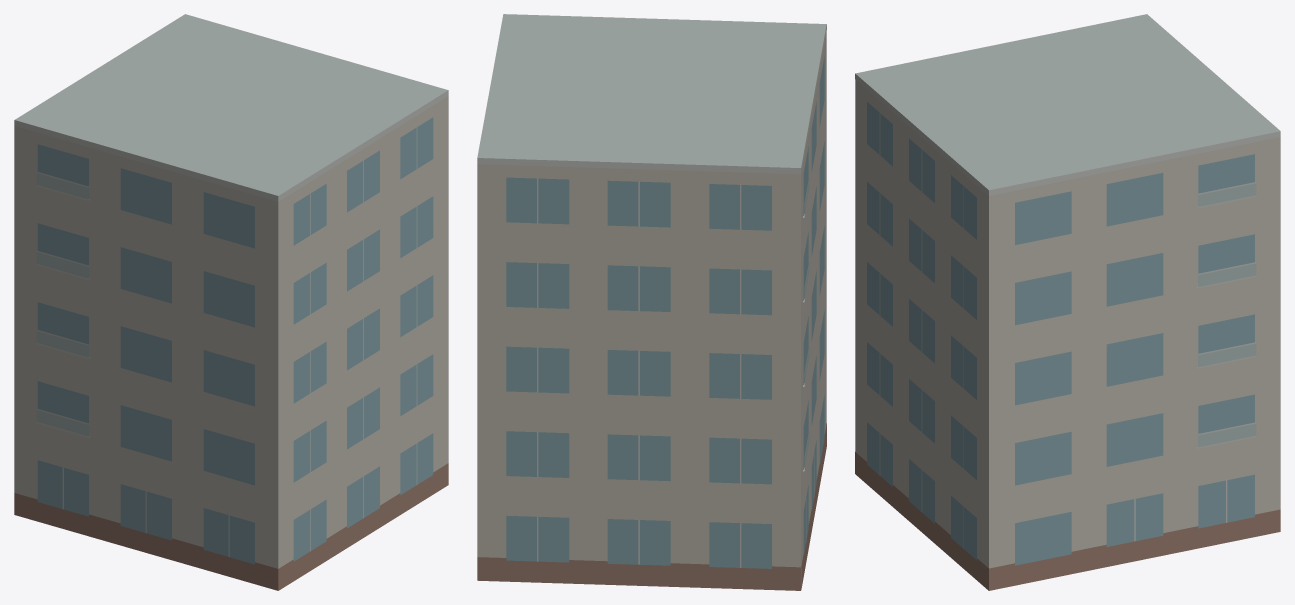
Rendered from survey-upis-32705207.glb.
3 views of the same model, side by side, from view 1: azimuth 30°, elevation 25°; view 2: azimuth 150°, elevation 25°; view 3: azimuth 270°, elevation 25° (orthographic). The views are drawn at different scales.
Parts seen in each view (by area): view 1: survey-upis-32705207.tmp; view 2: survey-upis-32705207.tmp; view 3: survey-upis-32705207.tmp.
Boxes of the visible parts, x1,y1,x2,y2 form: survey-upis-32705207.tmp: (14,14,448,590); survey-upis-32705207.tmp: (477,14,826,590); survey-upis-32705207.tmp: (855,14,1280,590).
Size of the model in its own units: 15.82 by 16.75 by 16.14.
